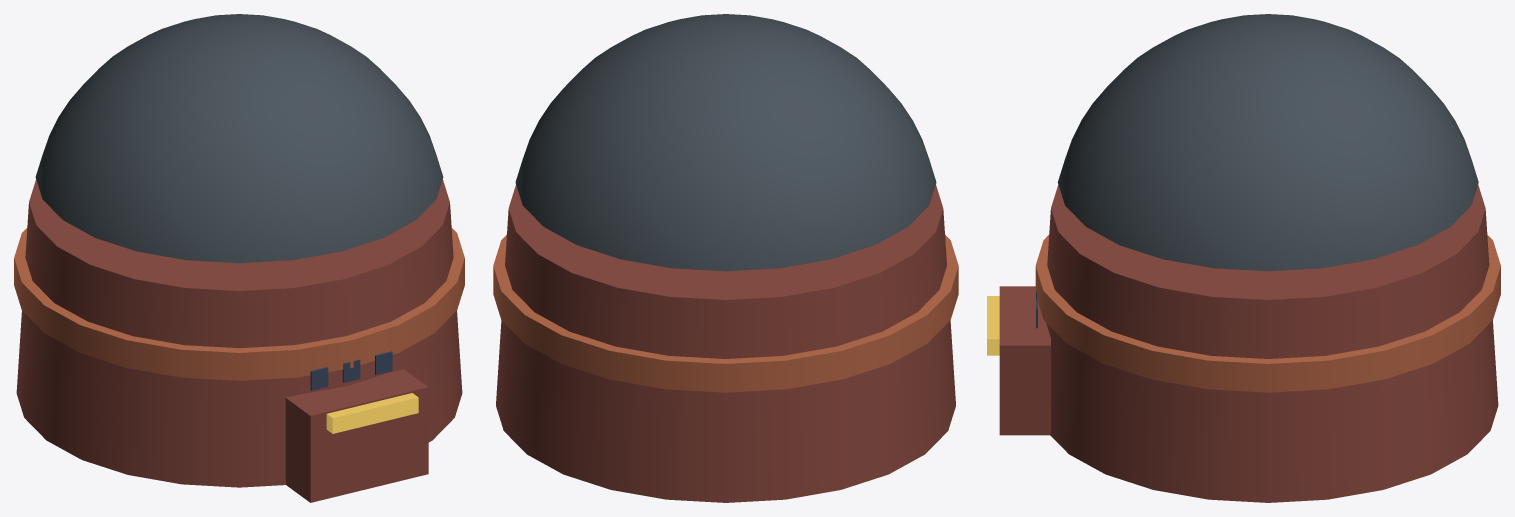
The model's file is alberthall.glb.
3 views of the same model, side by side, from view 1: azimuth 30°, elevation 25°; view 2: azimuth 150°, elevation 25°; view 3: azimuth 270°, elevation 25° (orthographic). The views are drawn at different scales.
Parts seen in each view (by area): view 1: alberthall; view 2: alberthall; view 3: alberthall.
Boxes of the visible parts, left/top/right/bottom form: alberthall: left=14, top=14, right=464, bottom=502; alberthall: left=493, top=14, right=958, bottom=502; alberthall: left=987, top=14, right=1500, bottom=502.
Size of the model in its own units: 0.654 by 0.5758 by 0.7222.
